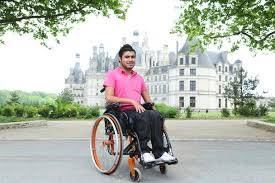wheelchair: (90, 44, 180, 183)
